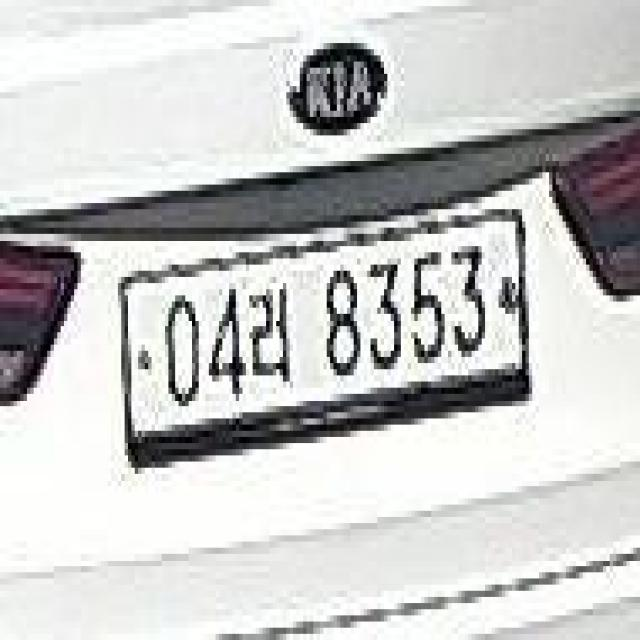illegal_plate: (113, 204, 537, 465)
